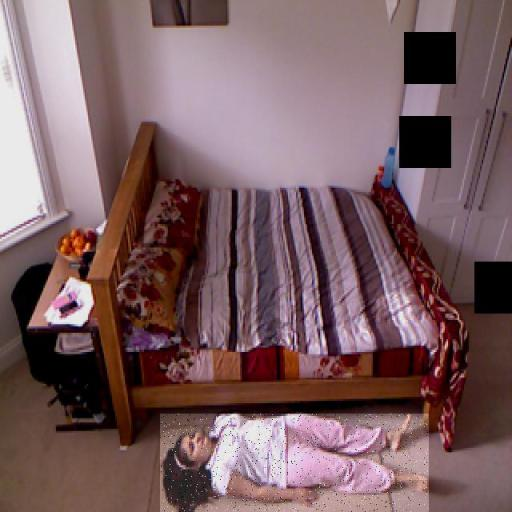Fall: (160, 413, 429, 512)
